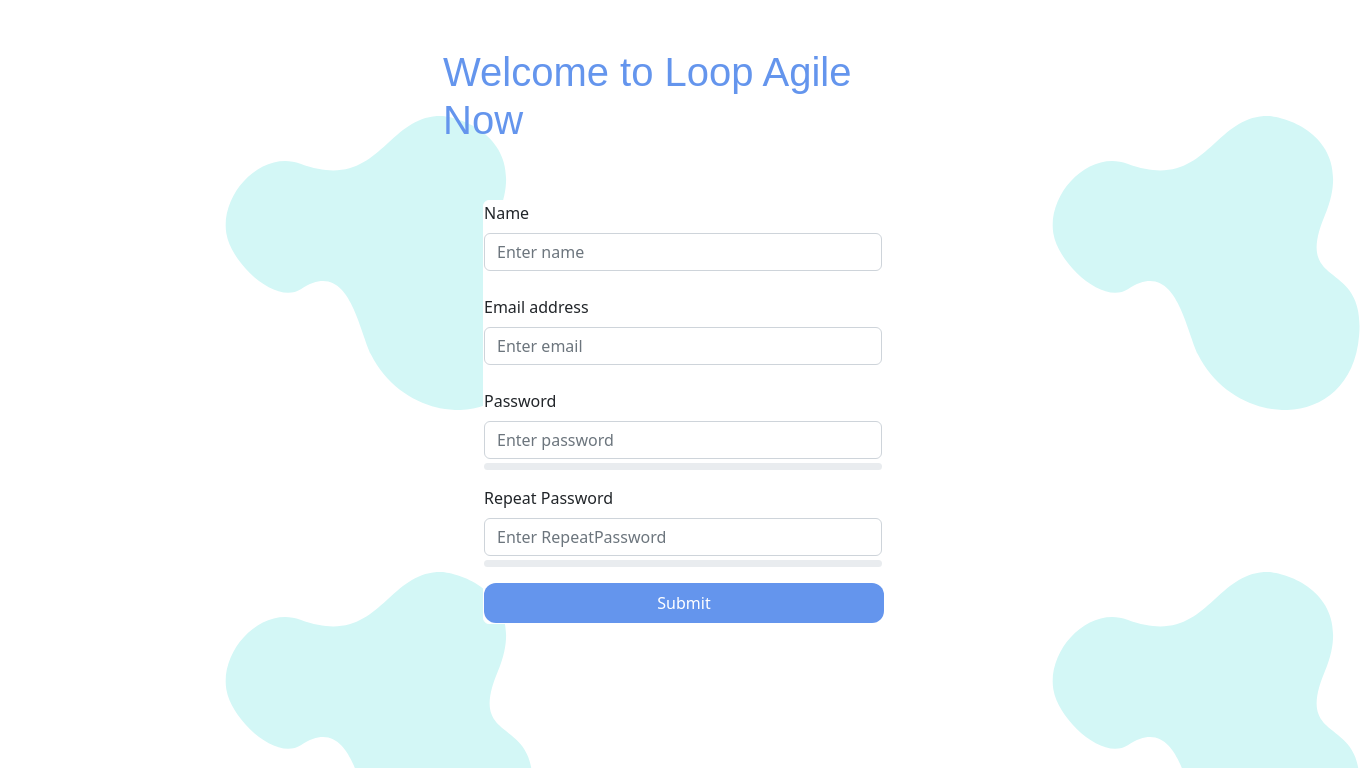
Successful Signup
The image size is (1366, 768).
fill all blank
Type "testName" into the field with placeholder "Enter name" at (683, 252), box [484,233,882,271]
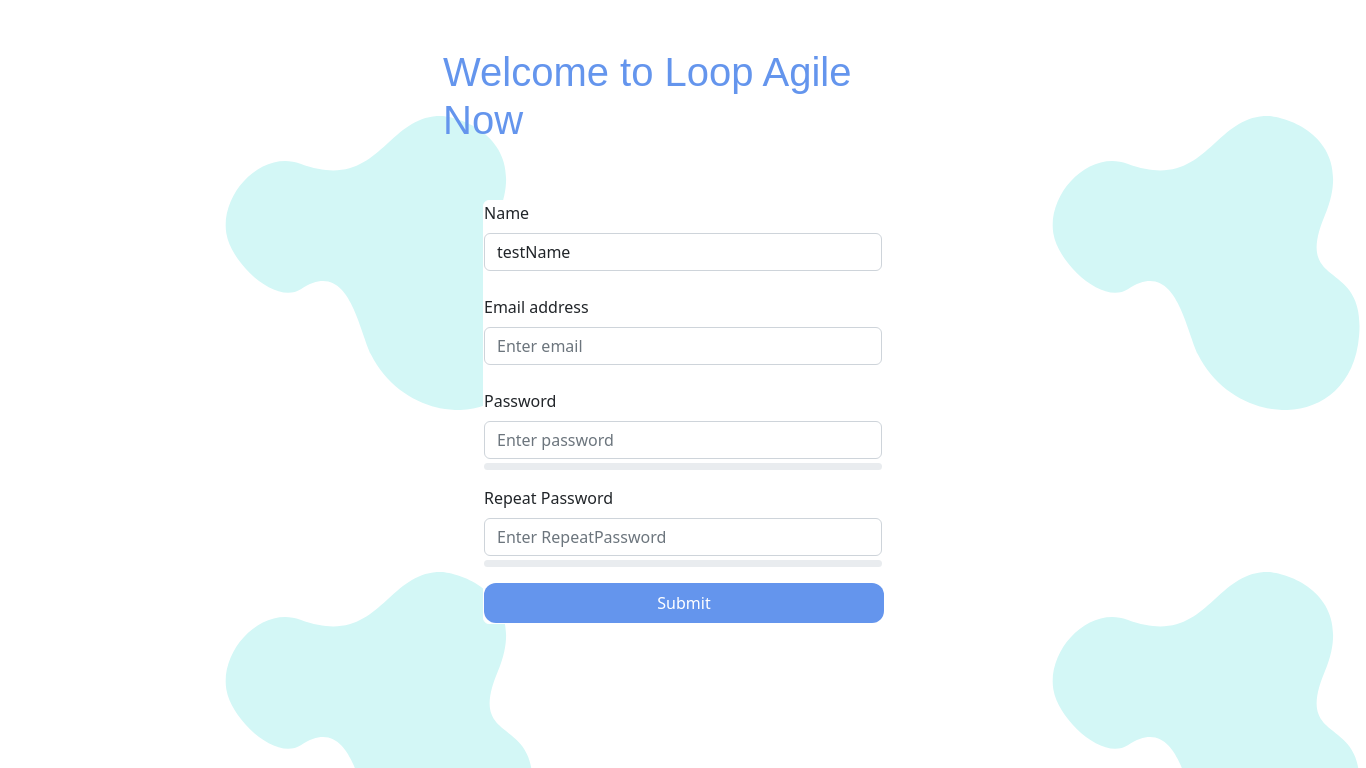
Type "testtest@gmail.com" into the field with placeholder "Enter email" at (683, 346), box [484,327,882,365]
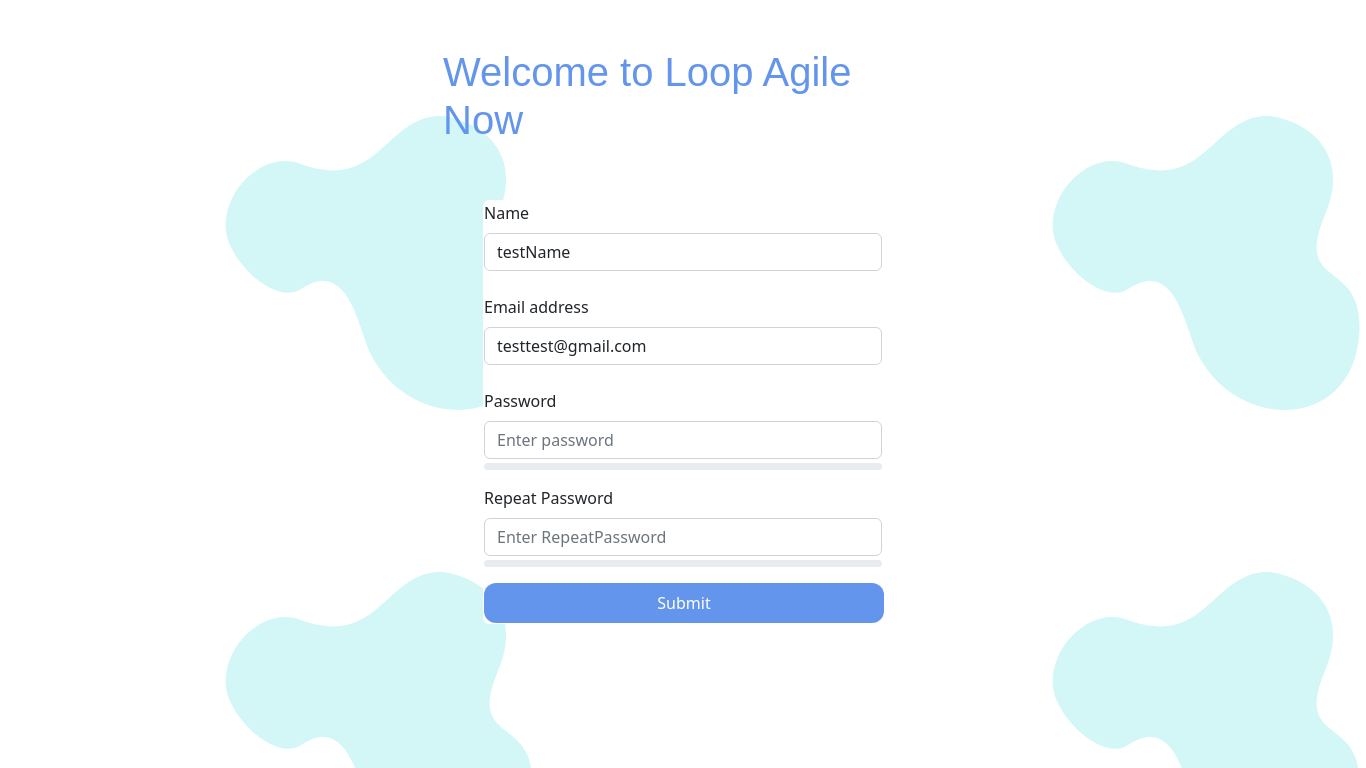
Type "Aa$12345678" into the password field with placeholder "Enter password" at (683, 440), box [484,421,882,459]
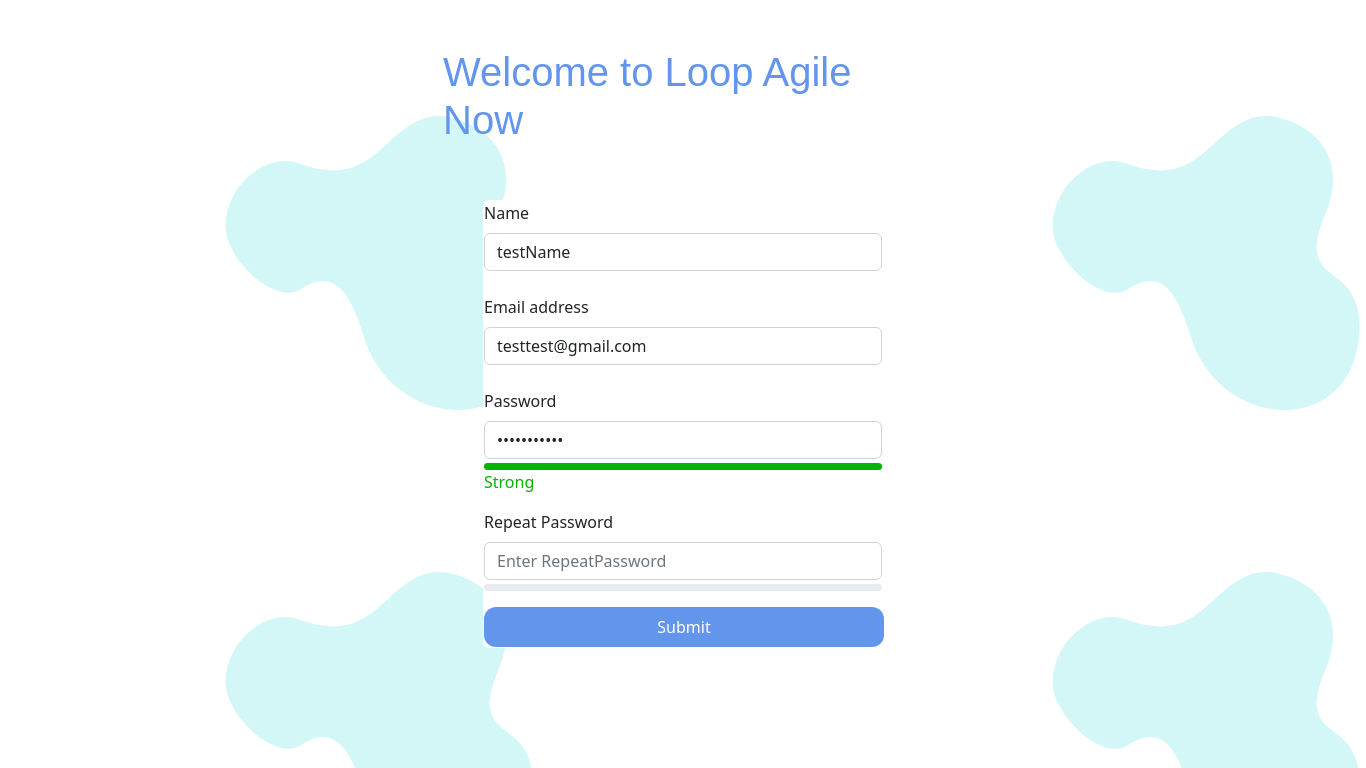
Type "Aa$12345678" into the password field with placeholder "Enter RepeatPassword" at (683, 561), box [484,542,882,580]
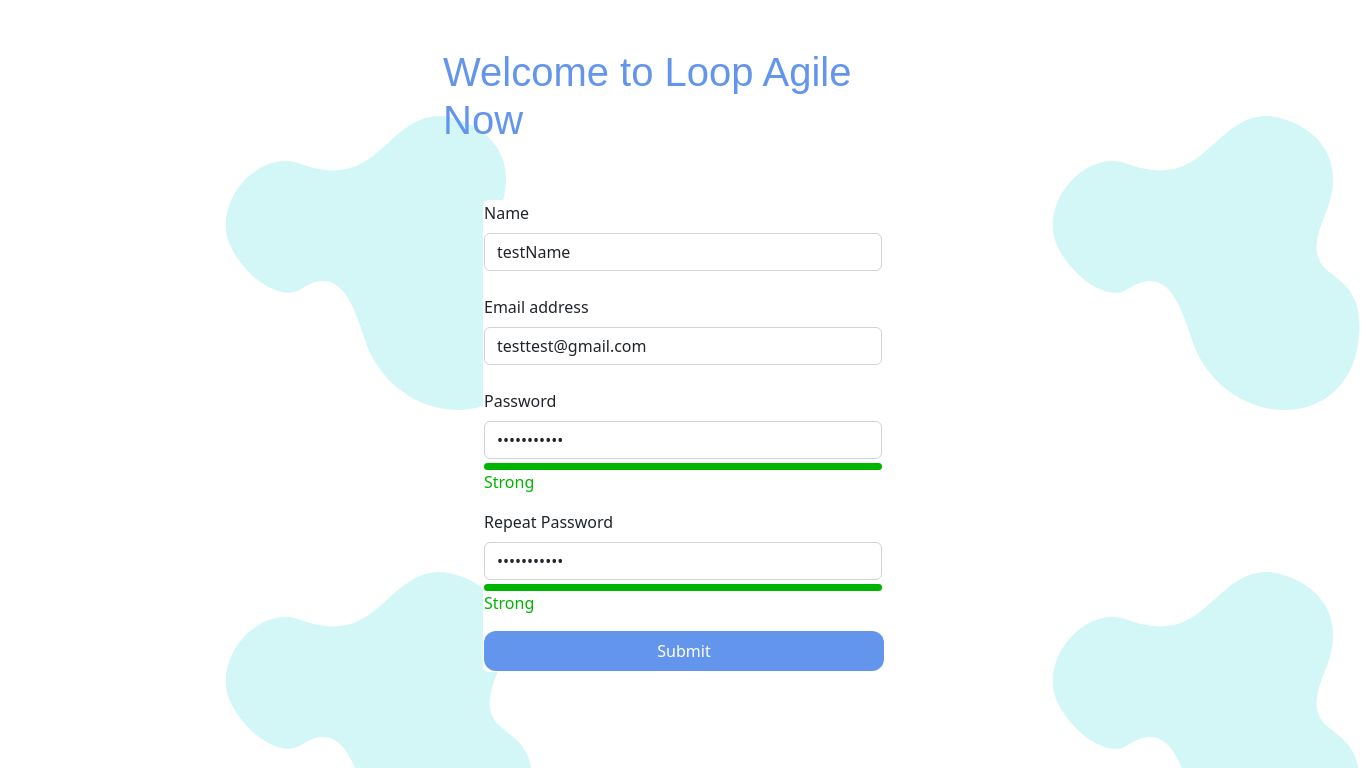
Click the button "Submit" at (684, 651), box [484,631,884,671]
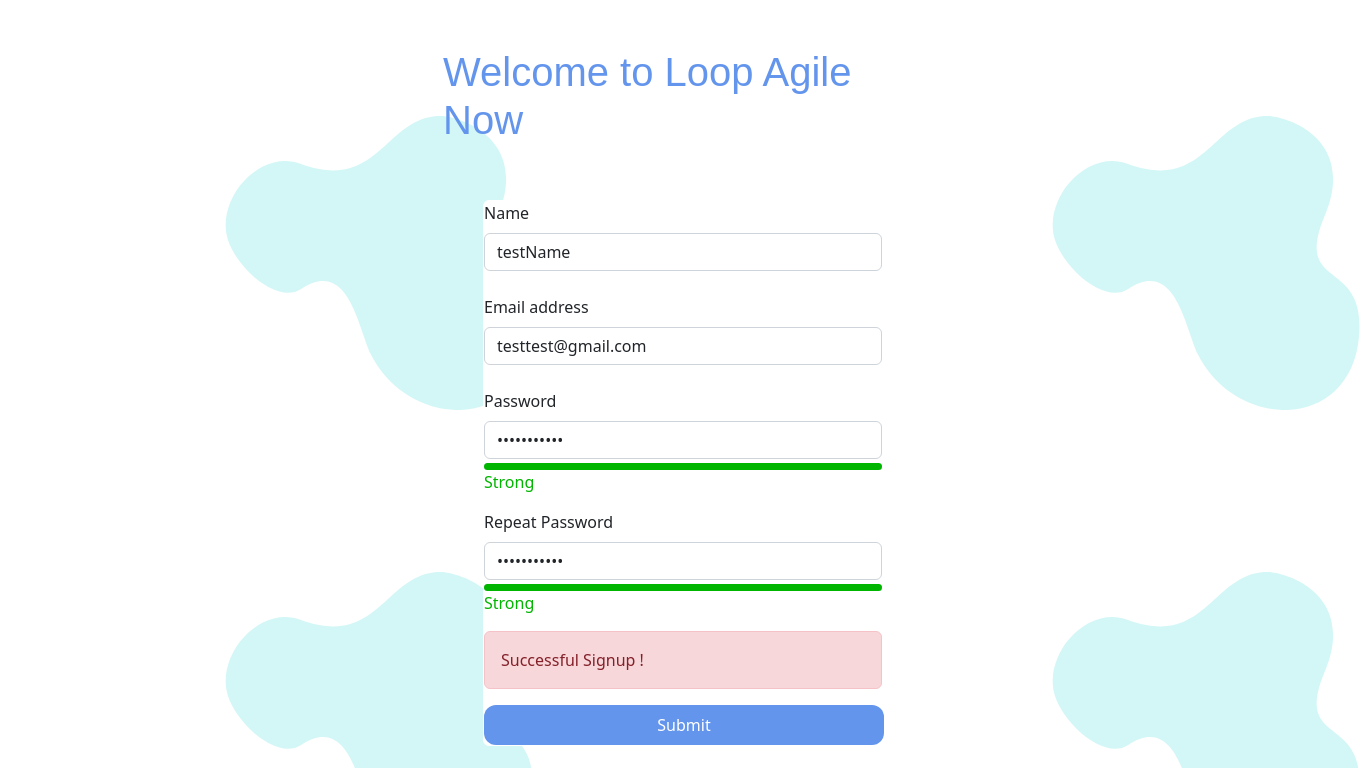
expect the text "Successful Signup !" is shown: met, box [484,631,882,689]
